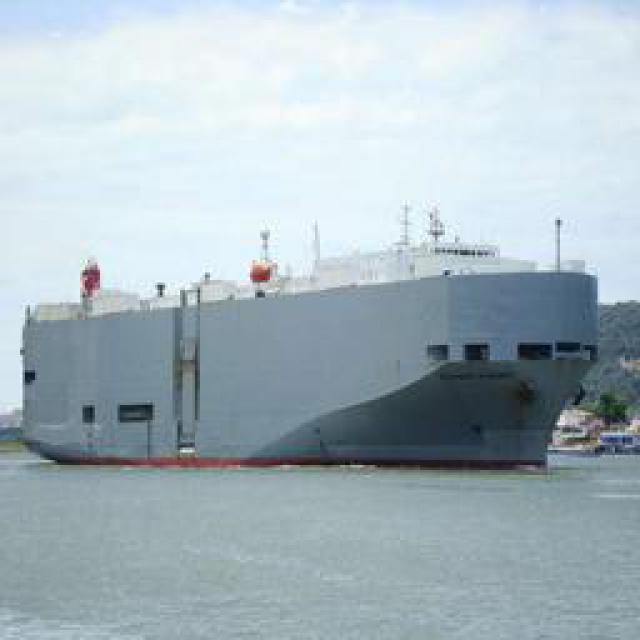Ship: (13, 171, 606, 482)
